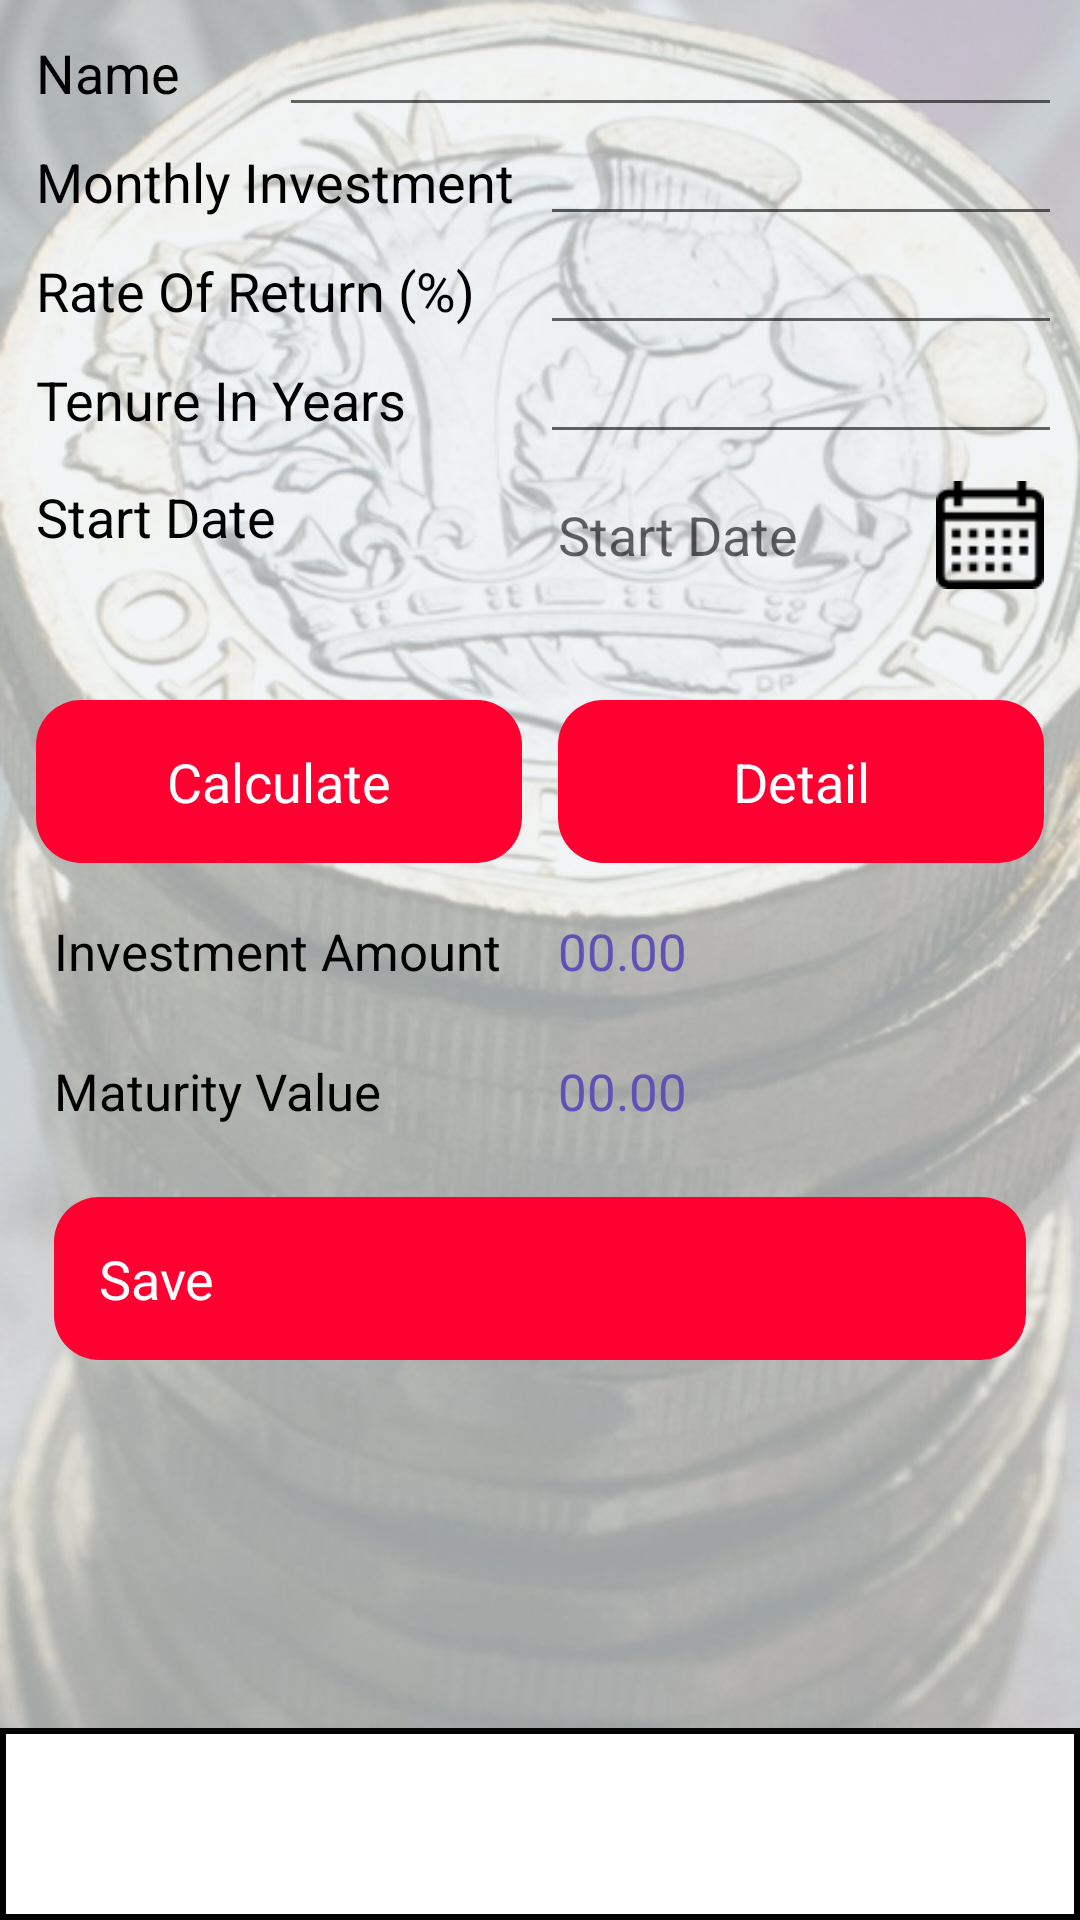

Where icons sit on this 1080px×1920px app screen, as (x1, y1, x2, y2):
calendar: (936, 481, 1044, 589)
